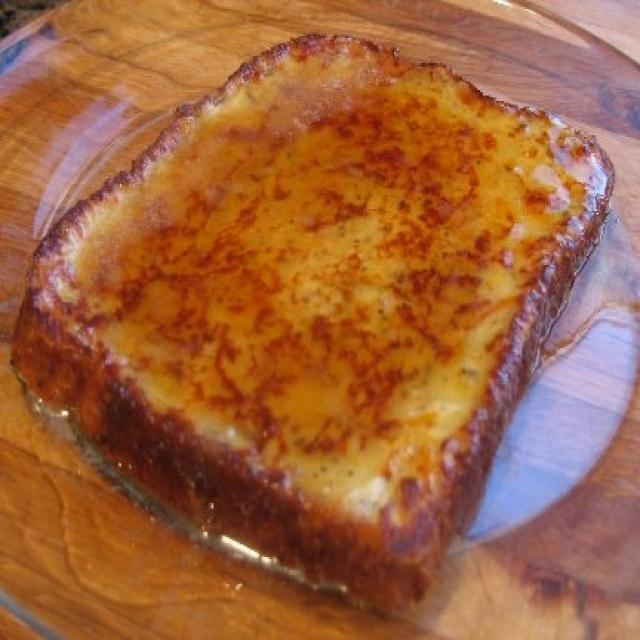面包点心: (15, 13, 621, 620)
